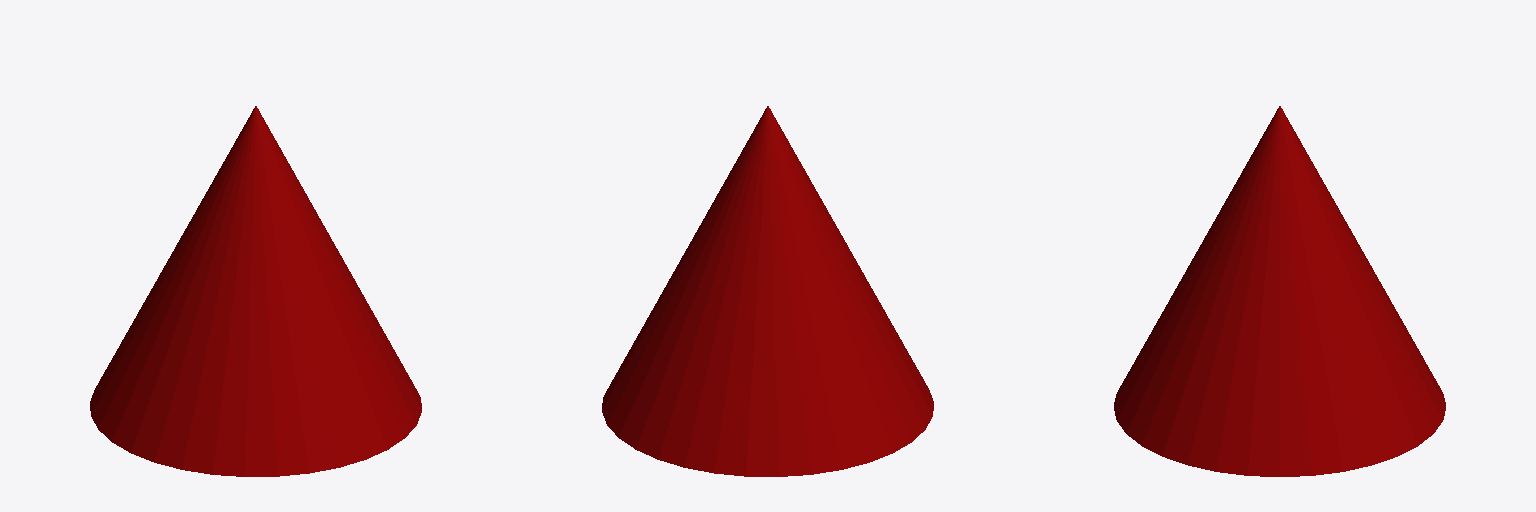
Rendered from player1.obj.
The picture shows the model from 3 angles: view 1: azimuth 30°, elevation 25°; view 2: azimuth 150°, elevation 25°; view 3: azimuth 270°, elevation 25°; orthographic projection.
Visible parts, largest first — view 1: Cone_Cone.001; view 2: Cone_Cone.001; view 3: Cone_Cone.001.
Boxes of the visible parts, x1=… form: Cone_Cone.001: x1=90, y1=106, x2=421, y2=476; Cone_Cone.001: x1=602, y1=106, x2=933, y2=476; Cone_Cone.001: x1=1114, y1=106, x2=1445, y2=476.
Size of the model in its own units: 0.5 by 0.5 by 0.5.